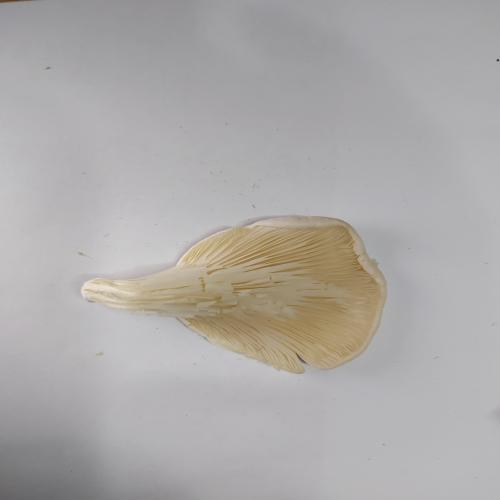Oyster Mushroom: (80, 214, 388, 374)
